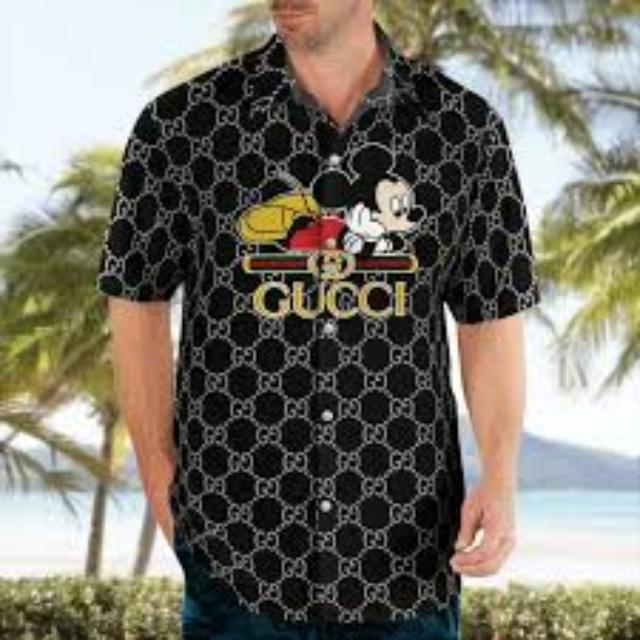Gucci: (250, 278, 418, 320), (308, 238, 360, 280)
